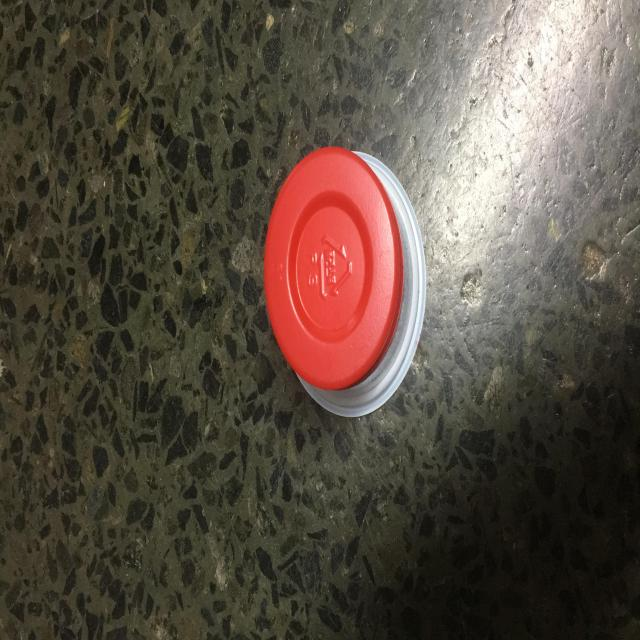bottle: (260, 139, 430, 423)
